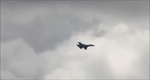maybay_muctieu: (74, 40, 95, 51)
